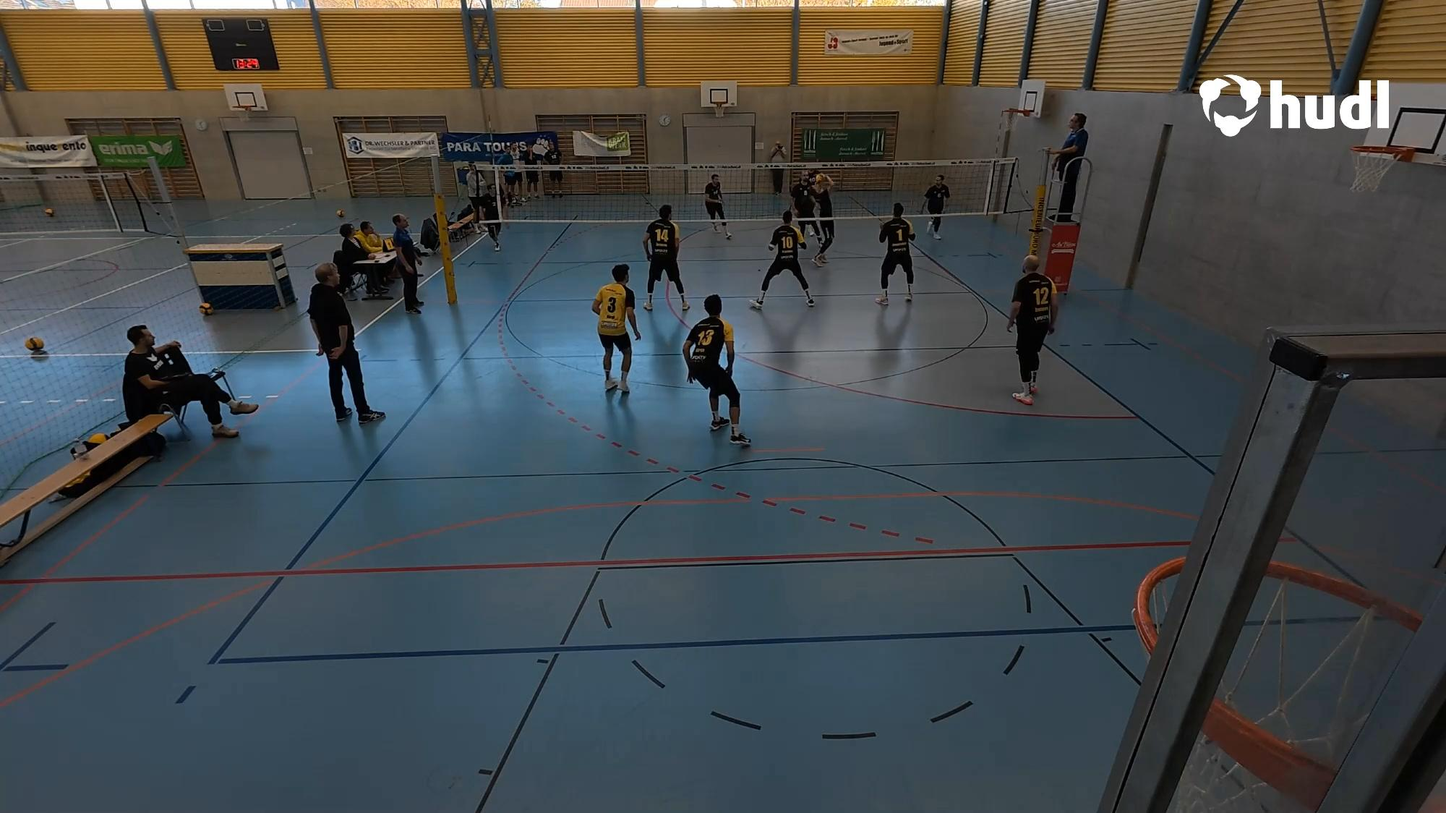Player: (685, 302, 746, 444), (1006, 260, 1056, 406), (592, 263, 638, 396), (753, 212, 816, 308), (643, 210, 688, 321), (875, 202, 916, 306), (698, 171, 732, 243), (789, 170, 822, 244), (922, 174, 949, 244), (482, 182, 508, 252)
Set: (806, 167, 837, 263)
ball: (818, 171, 831, 188)
